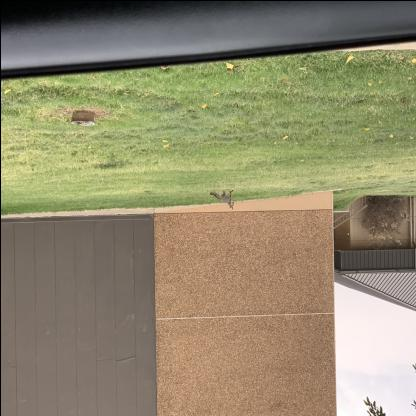zorro: (207, 188, 237, 208)
